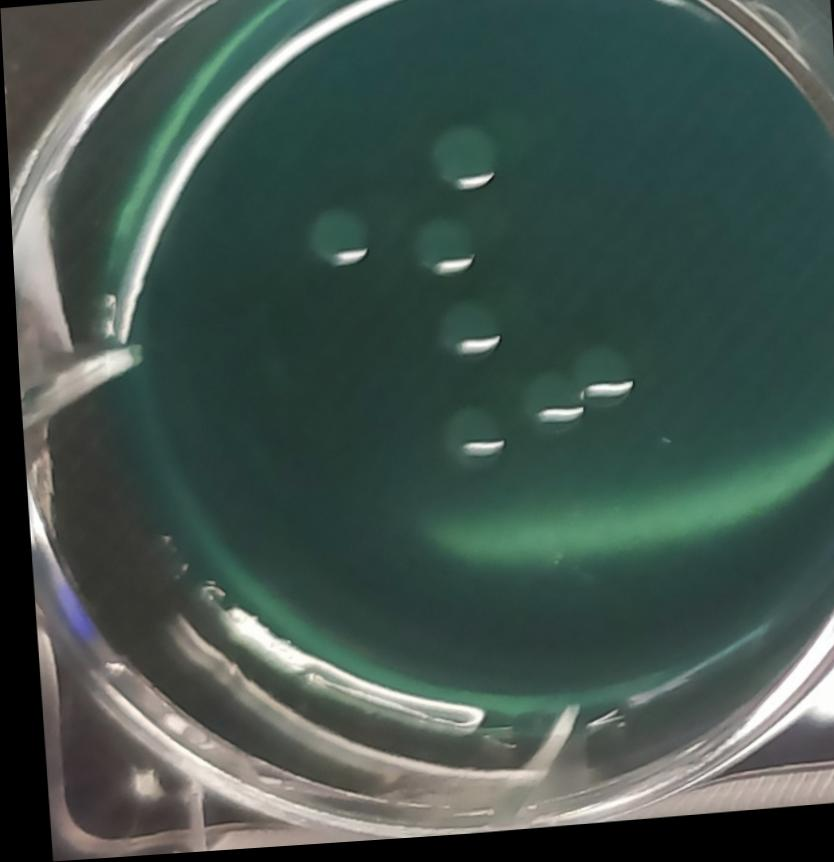vproteolyticus: (417, 118, 510, 206), (420, 407, 507, 489), (422, 297, 504, 380), (291, 198, 372, 279), (561, 344, 638, 422), (402, 215, 476, 289), (514, 373, 580, 446)
